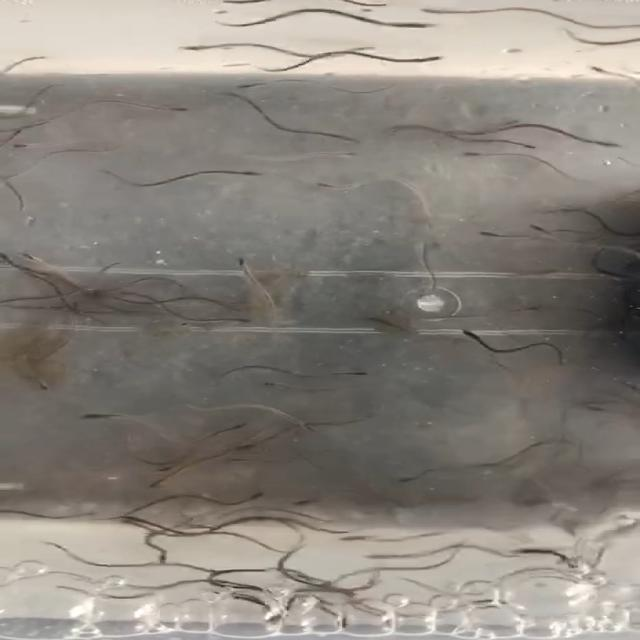active_glass_eel: (372, 17, 441, 33), (410, 2, 458, 21), (200, 419, 252, 436), (145, 470, 187, 489), (216, 441, 261, 458), (227, 162, 273, 178), (231, 488, 276, 504), (524, 220, 562, 238), (145, 458, 186, 474), (221, 76, 267, 90), (0, 138, 46, 152), (0, 249, 28, 272), (168, 41, 212, 55), (153, 100, 200, 113), (98, 259, 128, 279), (20, 250, 57, 266), (500, 138, 542, 152), (75, 408, 124, 420), (405, 54, 453, 66), (231, 250, 257, 272), (475, 231, 526, 242), (508, 306, 553, 318), (220, 314, 263, 326), (256, 381, 295, 394), (287, 495, 324, 508), (336, 368, 375, 380), (387, 472, 426, 484), (458, 327, 491, 341), (326, 147, 364, 159), (150, 550, 178, 566), (338, 535, 376, 546), (584, 64, 616, 77), (315, 182, 363, 190), (32, 378, 54, 394), (88, 287, 114, 300), (452, 149, 489, 158), (366, 554, 408, 560)
